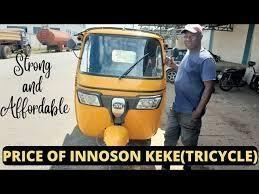keke: (64, 27, 171, 168)
